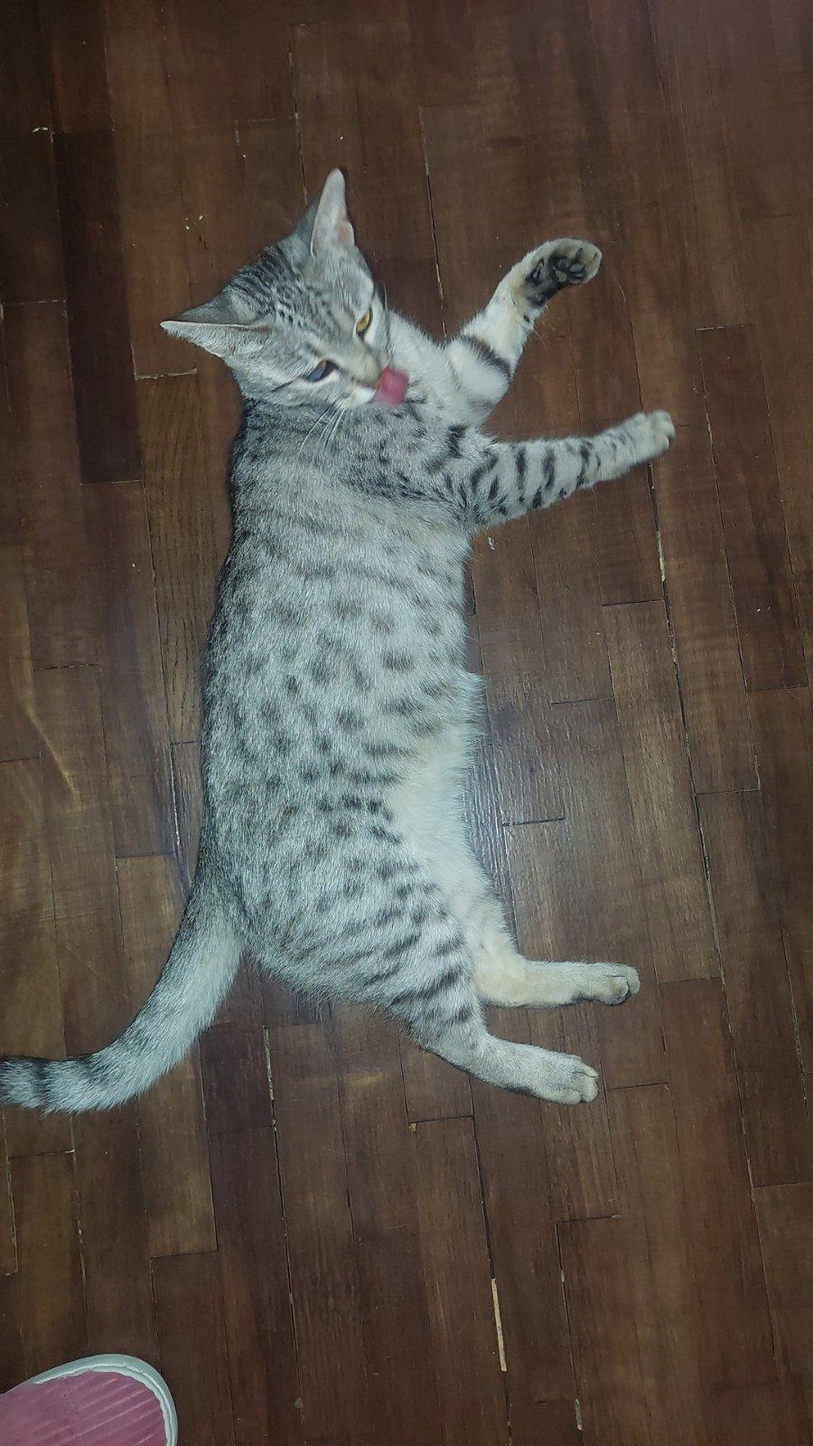macka: (0, 167, 679, 1110)
